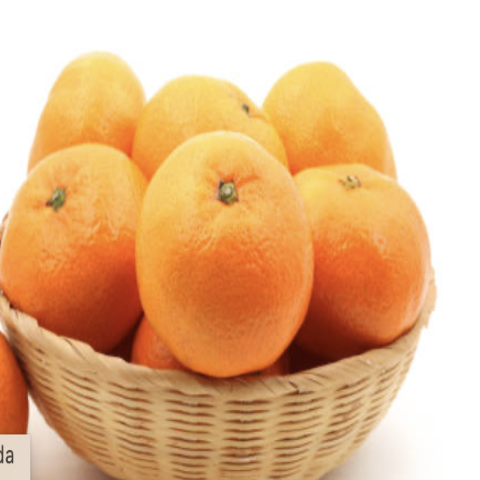orange: (130, 123, 325, 376), (263, 148, 468, 354), (1, 125, 157, 377)
